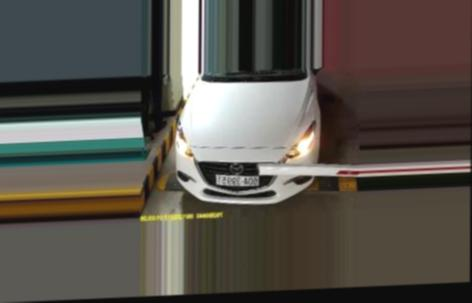License_Plate: (215, 171, 261, 188)
